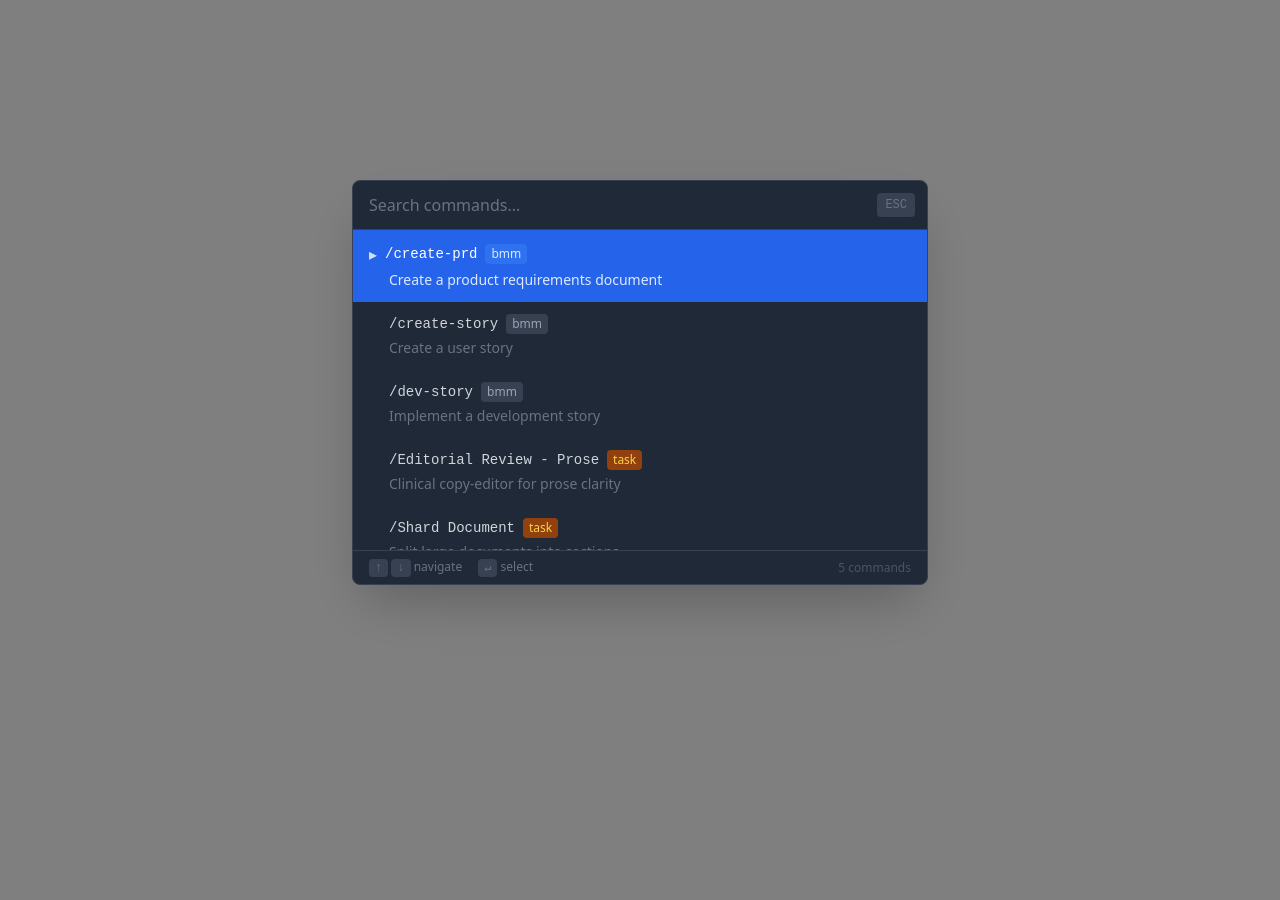
Test: CommandPalette › search filtering › filters workflows by name
The width and height of the screenshot is (1280, 900).
expect the text "/create-prd" is shown: met, box [385,244,477,264]
Type "story" into the field with placeholder "Search commands...".
click(640, 205); type("story")  # box [353,181,927,229]
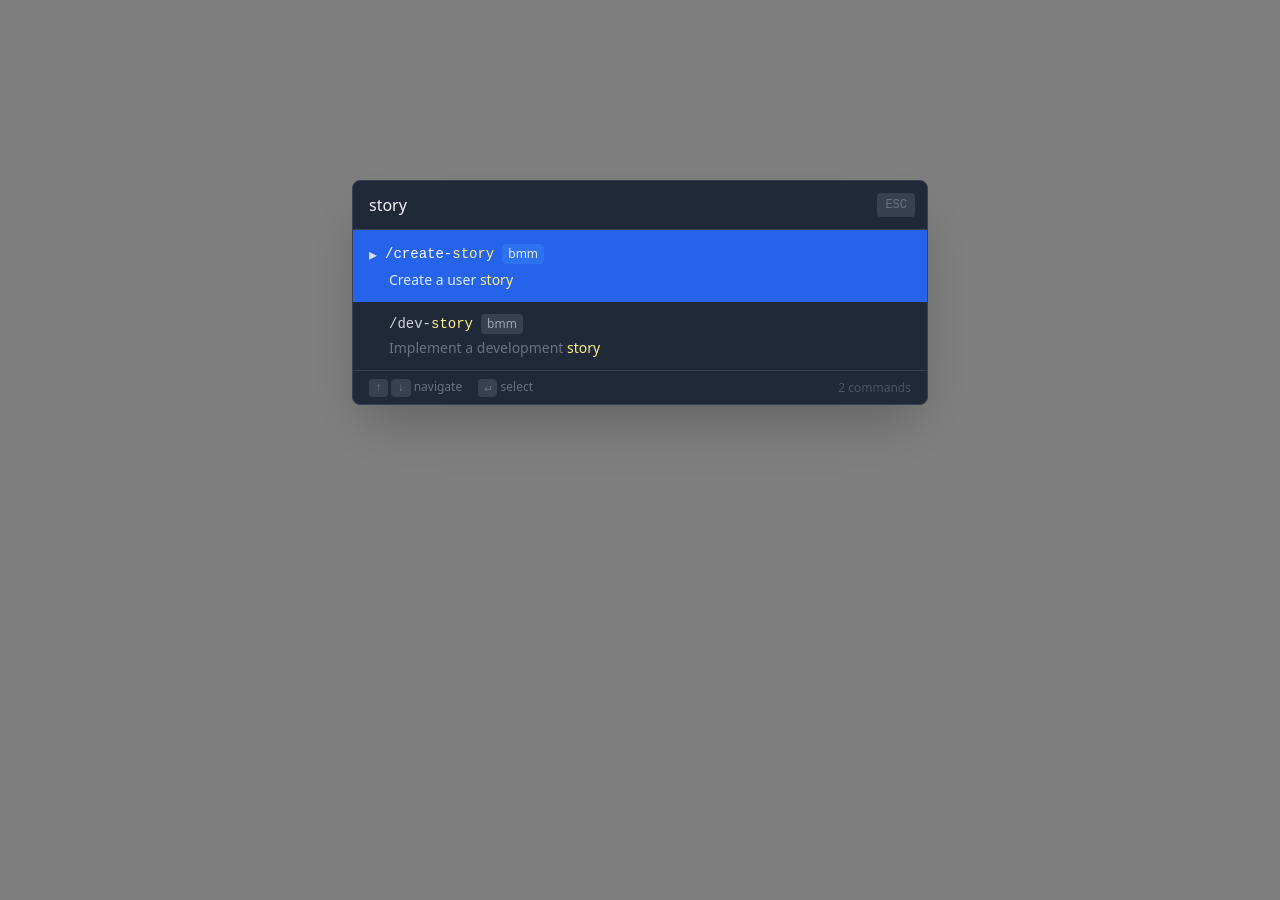
expect the option "▸ /create-story bmm Create a user story" is shown: met, box [353,230,927,302]
expect the option "create-prd" is gone: met
